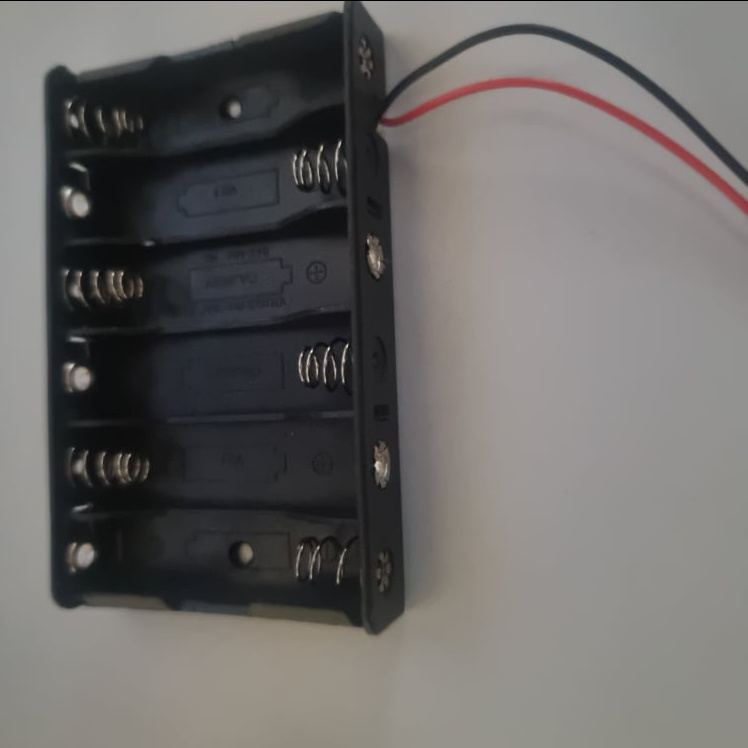BATTERY BOX: (43, 0, 404, 632)
